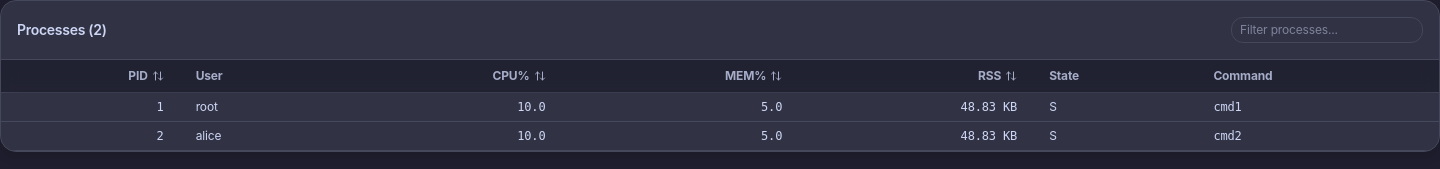
ProcessTable › filters processes by user
Type "alice" into the field with placeholder "Filter processes..." at (1327, 30), box x1=1231 y1=17 x2=1423 y2=43
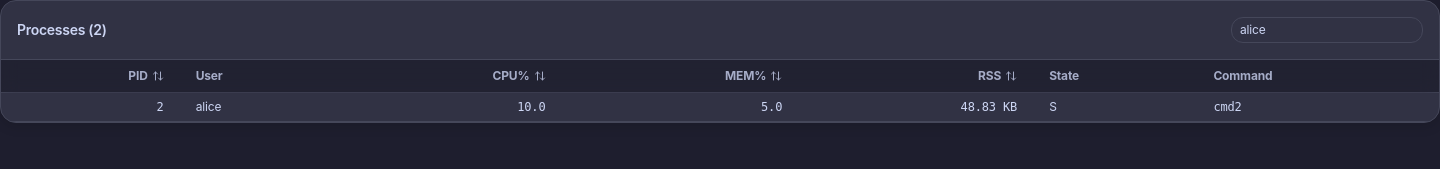
Expected: the text "cmd2" is shown, x1=1197 y1=92 x2=1439 y2=122
Result: the text "cmd1" is gone
